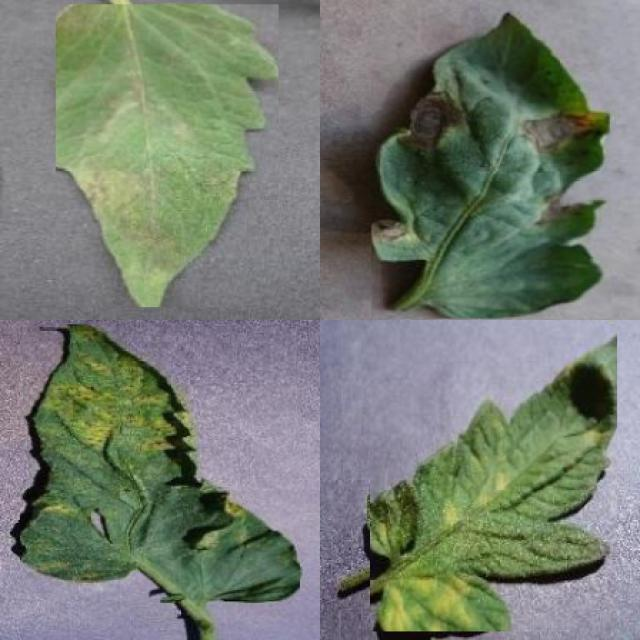Early Blight: (372, 12, 612, 318)
Late Blight: (55, 5, 278, 308)
Leaf Mold: (370, 326, 617, 631)
Septoria: (20, 325, 300, 602)
